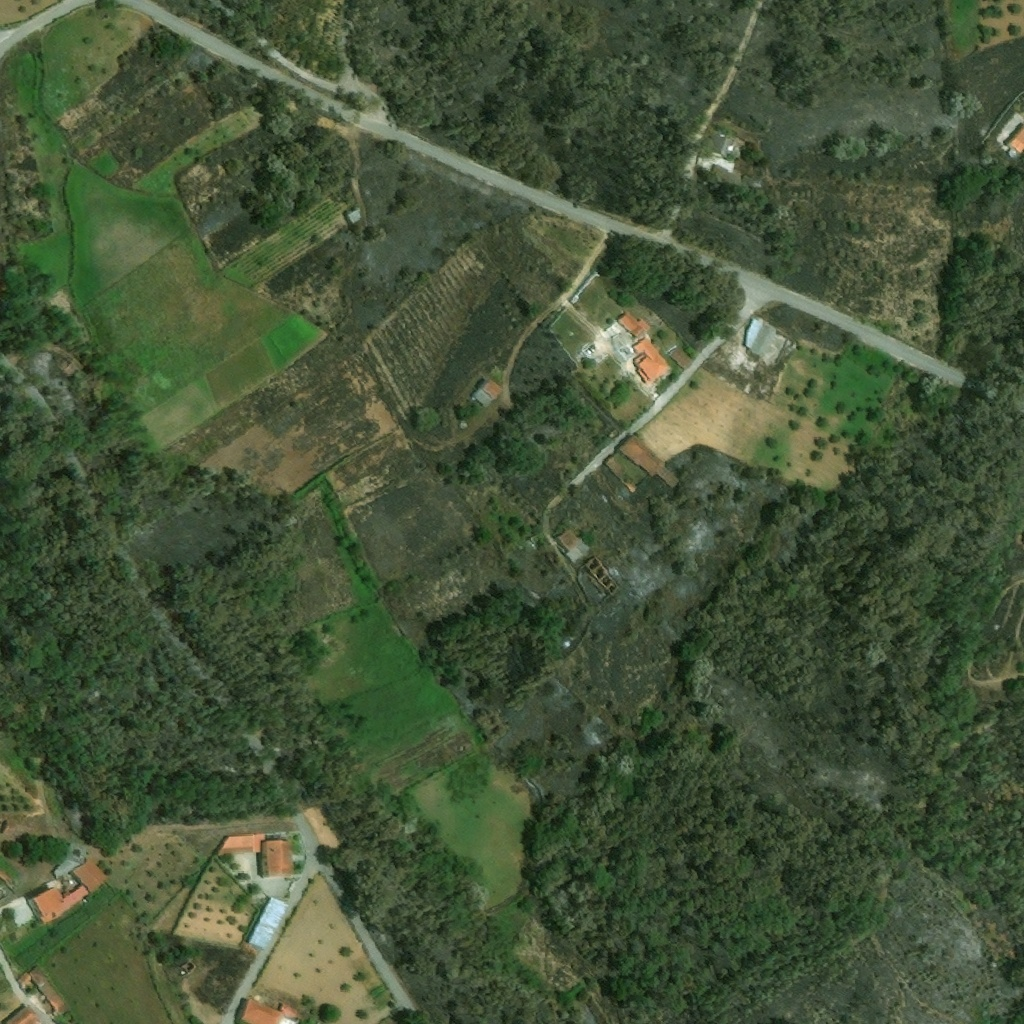0 no-damage: (619, 433, 682, 489), (16, 967, 67, 1019), (27, 884, 89, 926), (247, 896, 289, 950), (632, 335, 671, 379), (239, 997, 303, 1023), (257, 839, 296, 879), (71, 857, 109, 893), (743, 317, 777, 356), (555, 527, 591, 563), (216, 833, 259, 857), (617, 309, 651, 339), (470, 378, 504, 407), (709, 162, 741, 188), (3, 1006, 45, 1023), (667, 347, 694, 370), (711, 130, 733, 157), (345, 205, 364, 224), (180, 958, 197, 976)
3 destroyed: (584, 557, 618, 592)
4 un-classified: (1006, 125, 1023, 159), (3, 820, 17, 835)
